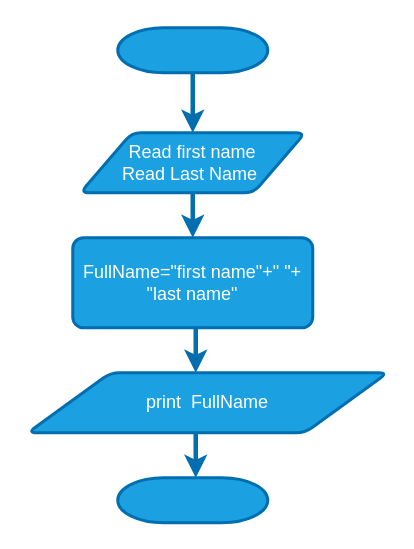
Some shapes in this 414 by 549 pixel diagram are drawn without their labels. The shapes that lost their labels are listed below. From the top down, each one's centre as x and y in pixels, then its label:
At point (192, 50): "start".
At point (192, 500): "End".
